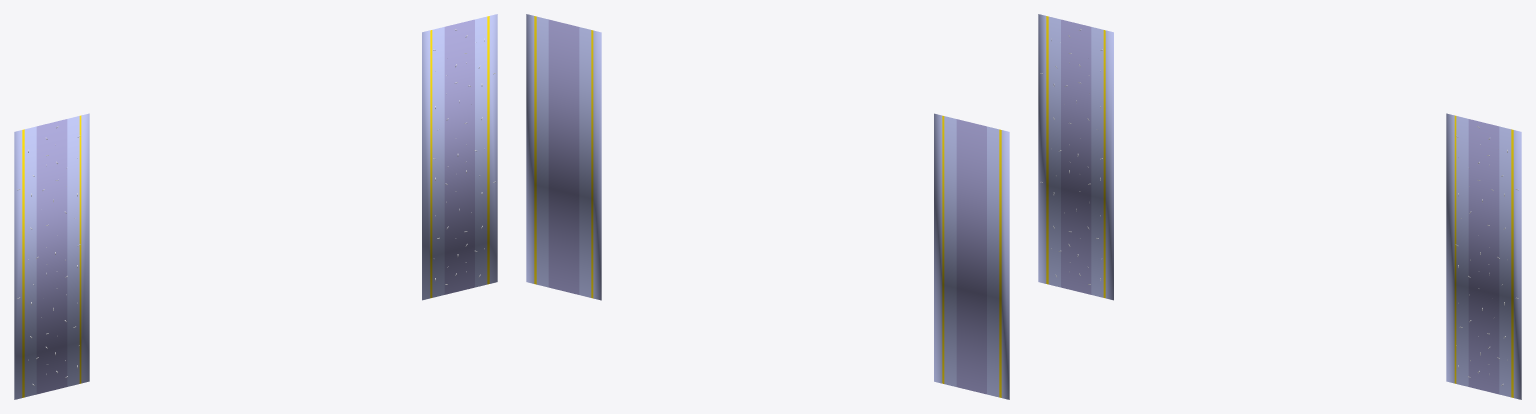
The model's file is Curtains.fbx.
3 renders of one model, left to right at view 1: azimuth 30°, elevation 25°; view 2: azimuth 150°, elevation 25°; view 3: azimuth 330°, elevation 25°, orthographic.
Visible parts, largest first — view 1: stage_curtain; view 2: stage_curtain; view 3: stage_curtain.
Boxes of the visible parts, x1,y1,x2,y2 form: stage_curtain: (14, 14, 497, 399); stage_curtain: (526, 14, 1009, 399); stage_curtain: (1038, 14, 1521, 399).
Bounding box in the file's own units: 794 × 421 × 2.17.
